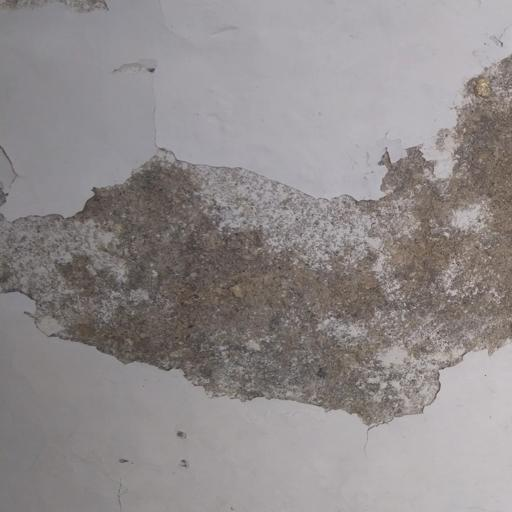peeling: (0, 49, 512, 436)
